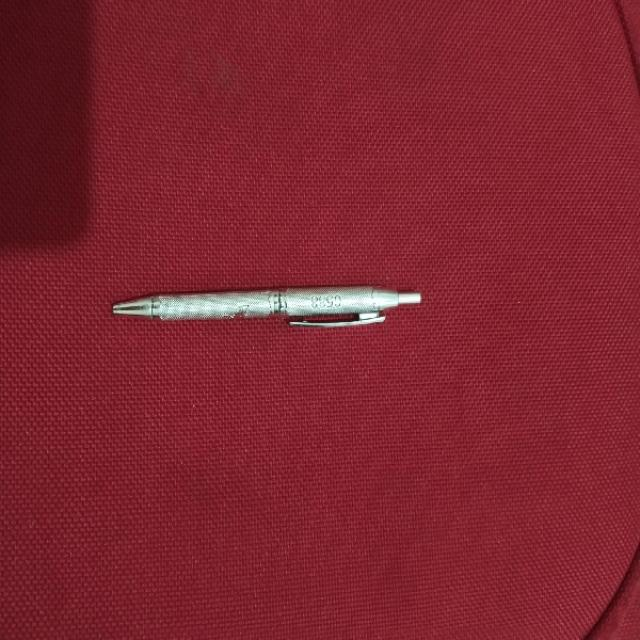signature pen: (113, 286, 420, 326)
